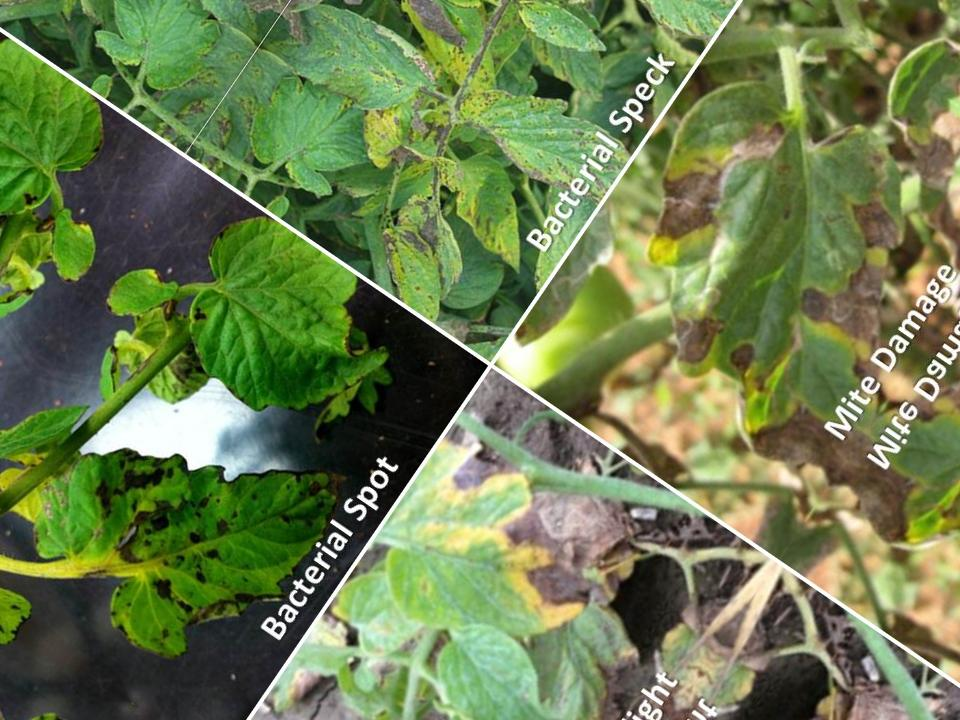Tomato Early blight leaf: (255, 419, 743, 720)
Tomato leaf bacterial spot: (6, 351, 372, 714), (138, 204, 439, 496), (420, 35, 636, 229), (254, 0, 465, 162), (330, 0, 607, 65), (546, 0, 753, 82), (485, 0, 622, 82), (400, 0, 504, 27)
